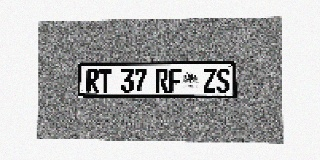3: (121, 69, 134, 92)
7: (134, 68, 147, 92)
F: (169, 68, 182, 93)
R: (156, 68, 168, 93), (86, 69, 99, 92)
S: (216, 68, 230, 93)
T: (99, 69, 111, 92)
Z: (203, 68, 216, 93)
